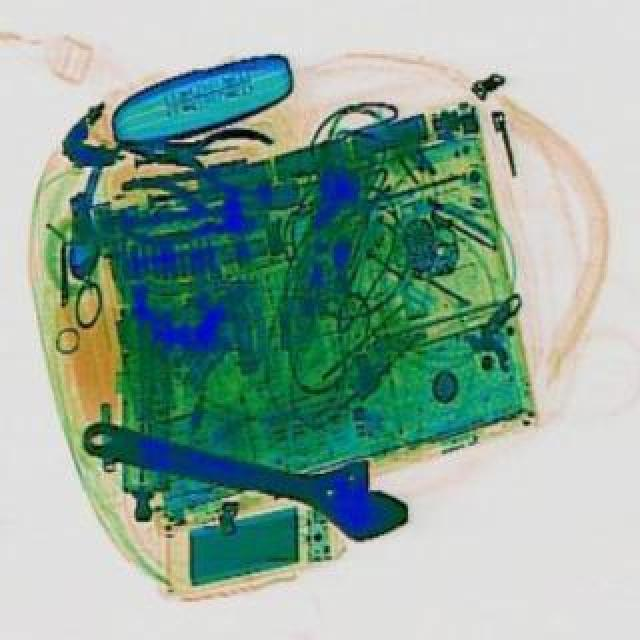scissors: (70, 392, 418, 544)
wrench: (110, 106, 274, 198), (112, 172, 256, 252)
